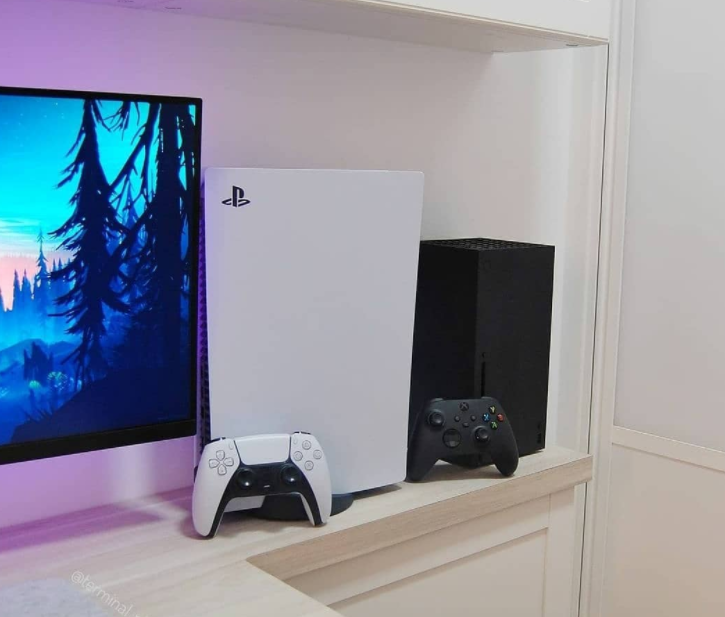gamingconsole: (190, 430, 331, 535), (408, 396, 520, 480)
